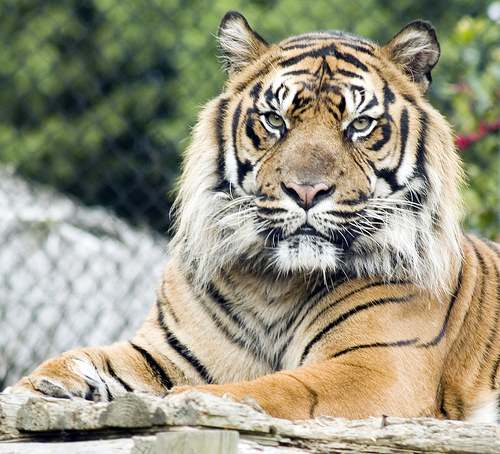Tigre: (136, 2, 484, 423)
